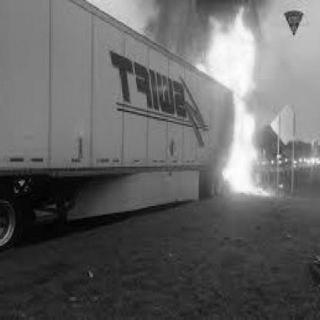Smoke: (150, 6, 200, 52)
